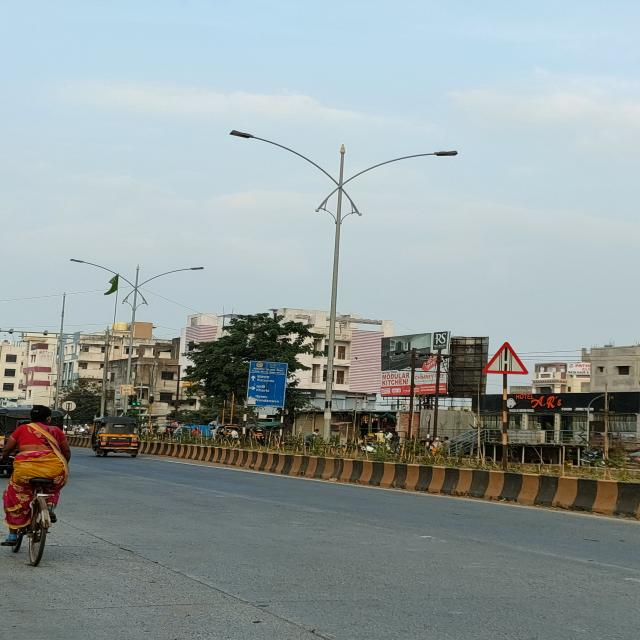ferry: (479, 342, 527, 374)
